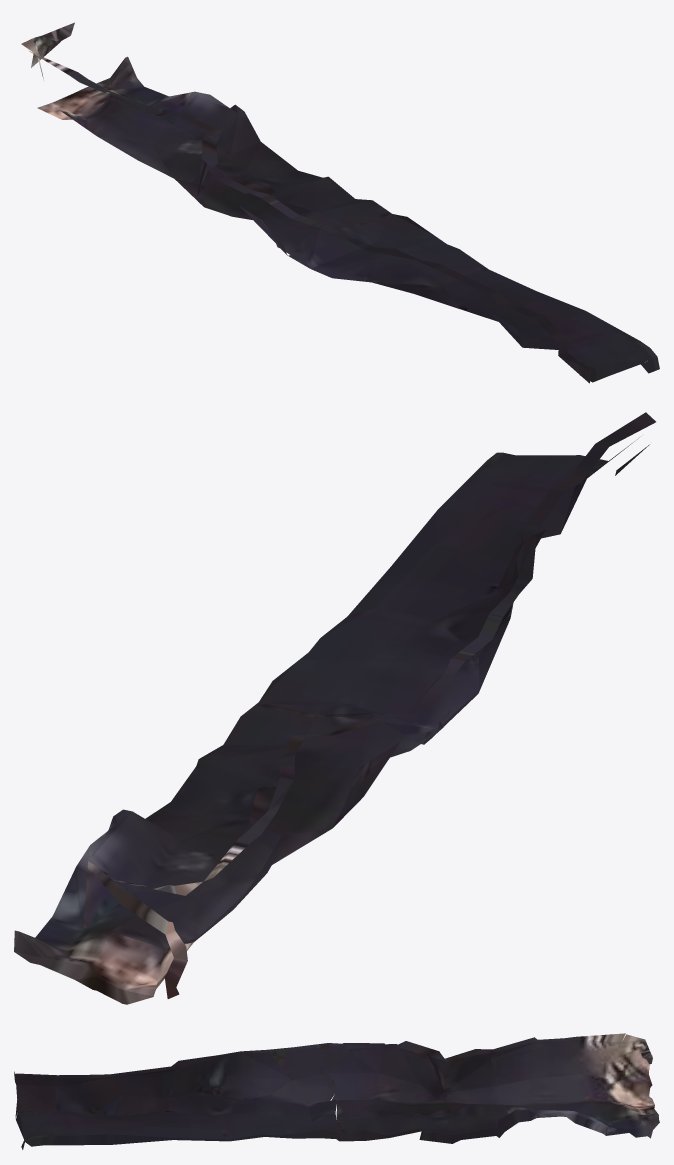
The picture shows the model from 3 angles, top to bottom: view 1: azimuth 30°, elevation 25°; view 2: azimuth 150°, elevation 25°; view 3: azimuth 270°, elevation 25°; orthographic projection. The views are drawn at different scales.
Parts seen in each view (by area): view 1: Mesh_0; view 2: Mesh_0; view 3: Mesh_0.
Part boxes in pixels (x1,y1,x2,y2): Mesh_0: [21, 22, 659, 383]; Mesh_0: [14, 412, 655, 1004]; Mesh_0: [14, 1033, 659, 1149].
Size of the model in its own units: 10.37 by 4.49 by 38.54.
1 material, 1 textured.
